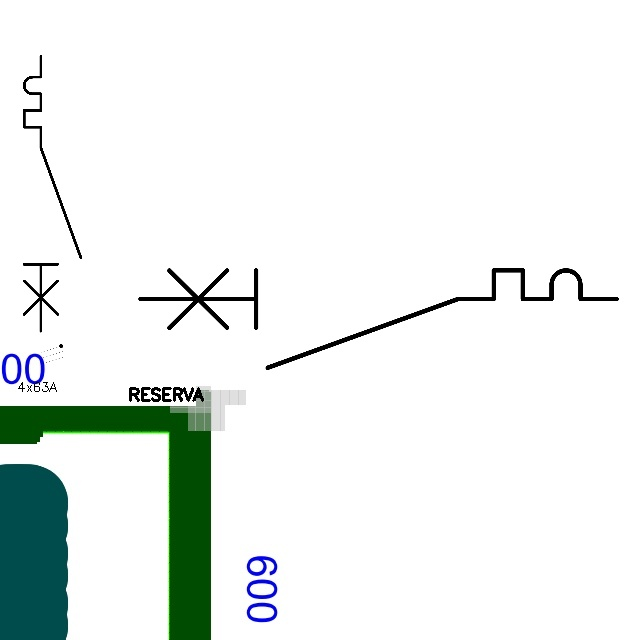interruptor_termomagnetico: (128, 258, 629, 380), (17, 49, 87, 338)
